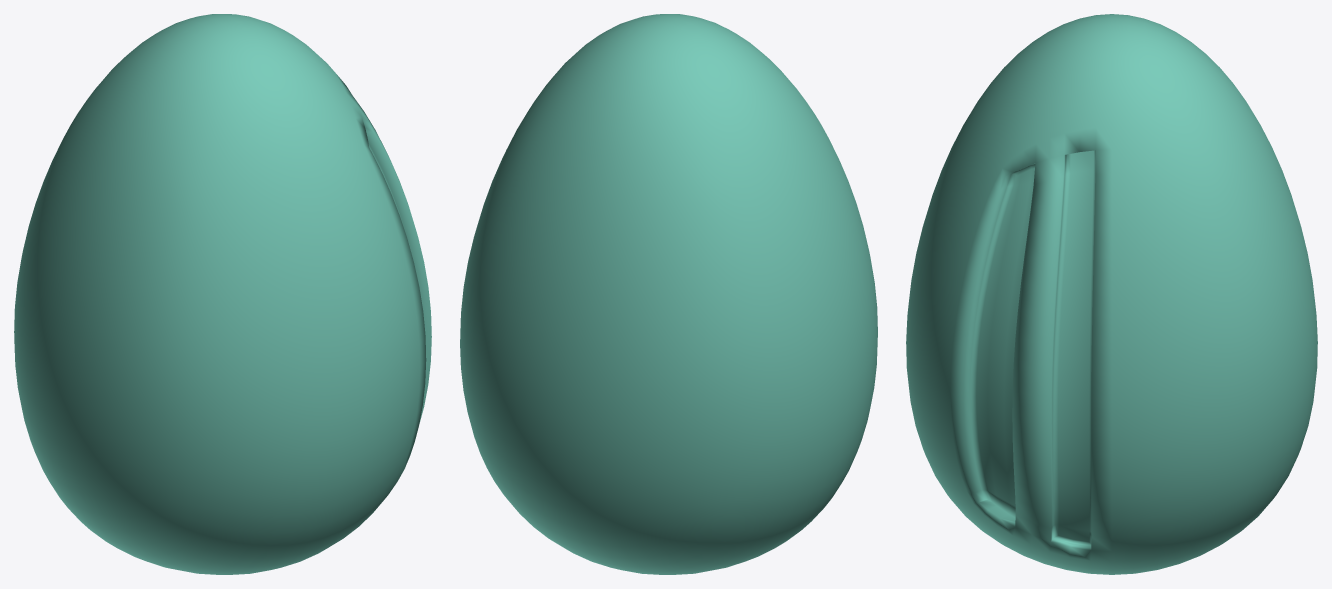
Rendered from Slime Egg  2.fbx.
3 views of the same model, side by side, from view 1: azimuth 30°, elevation 25°; view 2: azimuth 150°, elevation 25°; view 3: azimuth 270°, elevation 25° (orthographic).
Visible parts, largest first — view 1: Slime Egg 1.002; view 2: Slime Egg 1.002; view 3: Slime Egg 1.002.
Boxes of the visible parts, x1,y1,x2,y2 form: Slime Egg 1.002: (14, 14, 431, 574); Slime Egg 1.002: (460, 14, 877, 574); Slime Egg 1.002: (906, 14, 1317, 574).
Size of the model in its own units: 256 by 362 by 256.
